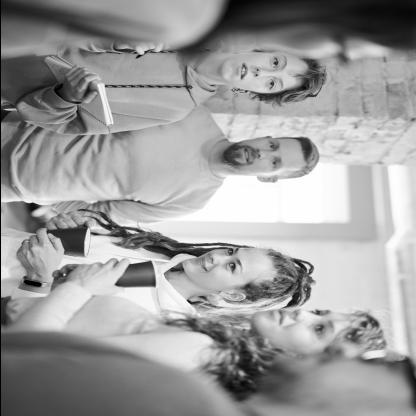Eye: (312, 321, 328, 337), (268, 56, 280, 70), (264, 78, 276, 90), (226, 260, 236, 274), (309, 308, 323, 317), (269, 158, 278, 170), (267, 142, 276, 152), (224, 248, 234, 257)
Mouth: (233, 64, 250, 80), (272, 308, 286, 326), (194, 256, 208, 272), (240, 148, 252, 164)
Nose: (292, 309, 314, 321), (252, 67, 273, 78), (208, 254, 226, 265), (254, 149, 270, 159)
